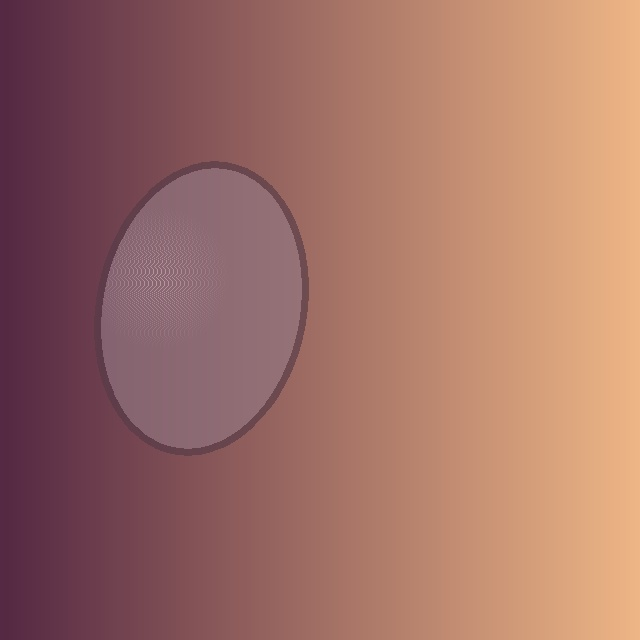lens: (97, 165, 305, 451)
